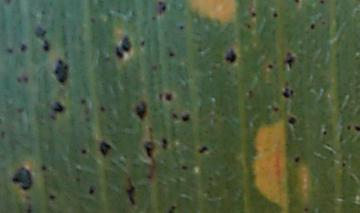tarspot: (9, 165, 36, 193), (50, 56, 72, 86), (111, 35, 134, 62), (97, 137, 113, 158), (222, 47, 239, 65), (133, 100, 148, 120), (281, 52, 297, 70), (125, 184, 137, 204), (49, 101, 67, 113), (155, 2, 170, 16), (144, 140, 155, 159), (280, 86, 296, 99), (14, 73, 30, 86), (84, 184, 98, 197), (76, 95, 90, 108), (40, 38, 51, 53), (195, 144, 211, 154), (292, 152, 302, 168), (17, 41, 30, 53), (37, 162, 50, 174), (286, 113, 298, 126), (180, 111, 191, 125), (176, 163, 193, 172), (160, 135, 169, 151), (21, 204, 37, 213), (308, 19, 318, 33), (164, 90, 173, 105), (46, 191, 58, 202), (269, 9, 280, 20), (77, 146, 89, 156), (96, 104, 108, 114), (248, 8, 258, 20), (138, 38, 147, 51), (167, 48, 176, 61), (264, 62, 277, 71), (5, 46, 15, 56), (176, 23, 186, 33), (168, 202, 177, 213), (320, 127, 329, 138), (339, 159, 348, 170), (343, 122, 352, 133), (352, 122, 360, 134), (169, 110, 177, 122), (271, 104, 279, 115), (301, 205, 312, 213), (317, 1, 327, 7), (292, 1, 301, 4)
